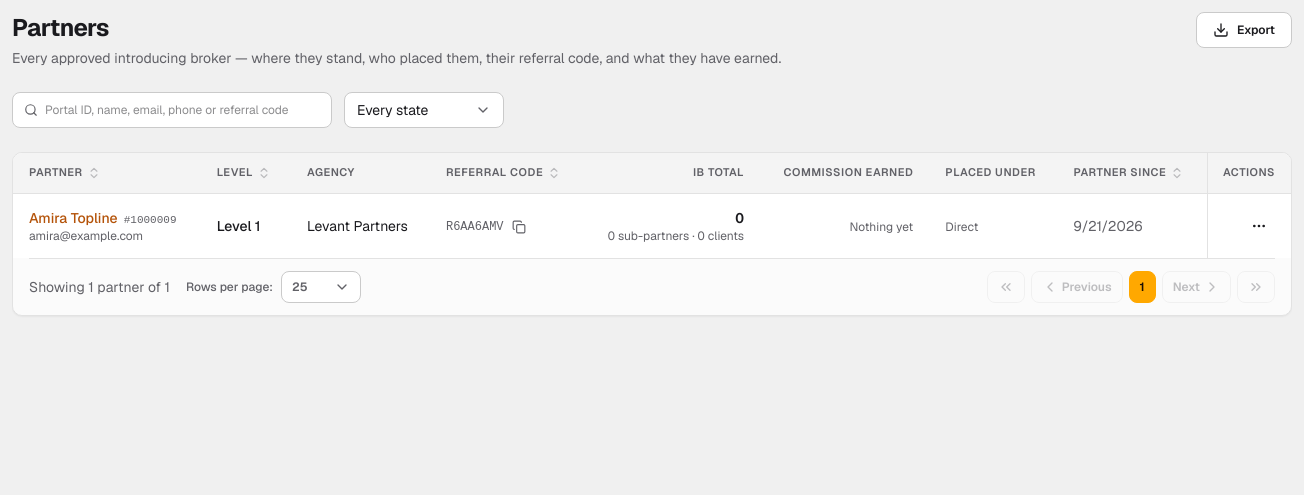
Test: the partner directory — what an operator may do › offers every action to an operator holding every key
Step 1. Click the button named "actions for" → coordinates (1259, 226), box x1=1243 y1=210 x2=1275 y2=242
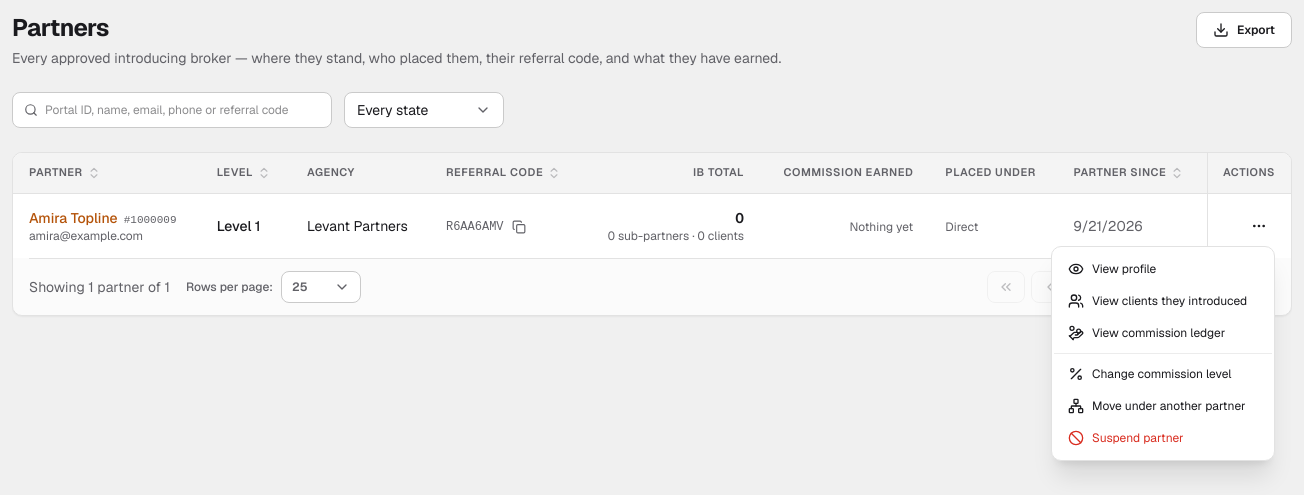
expect the menu item "Change commission level" is shown: met, box x1=1068 y1=366 x2=1232 y2=382
expect the menu item "Move under another partner" is shown: met, box x1=1068 y1=398 x2=1246 y2=414
expect the menu item "Suspend partner" is shown: met, box x1=1068 y1=430 x2=1184 y2=446
